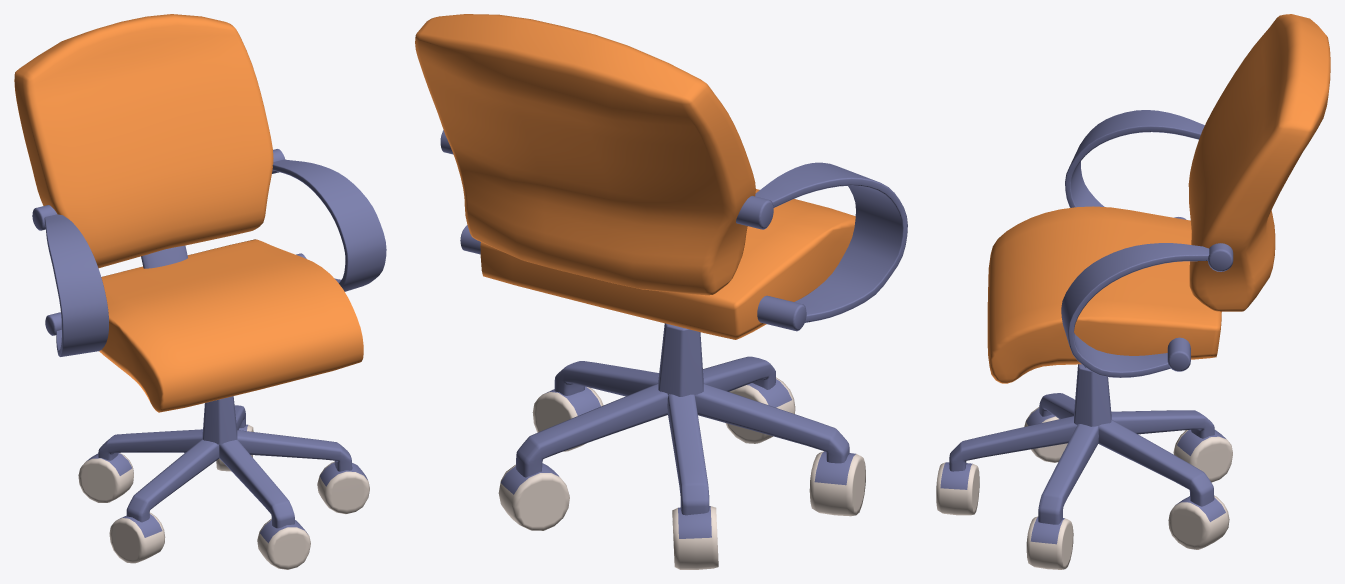
The model's file is Chair_7.glb.
3 views of the same model, side by side, from view 1: azimuth 30°, elevation 25°; view 2: azimuth 150°, elevation 25°; view 3: azimuth 270°, elevation 25° (orthographic). The views are drawn at different scales.
Visible parts, largest first — view 1: Chair_7; view 2: Chair_7; view 3: Chair_7.
Part boxes in pixels (<box>): Chair_7: <box>14,14,386,569</box>; Chair_7: <box>415,14,907,569</box>; Chair_7: <box>936,14,1330,569</box>.
Bounding box in the file's own units: 0.9342 × 1.19 × 0.9151.
1 material, 1 textured.
